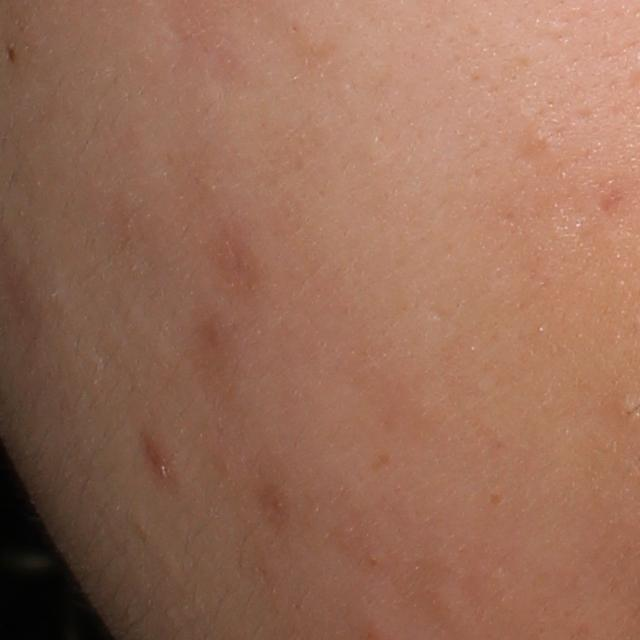comedo: (519, 125, 563, 169)
